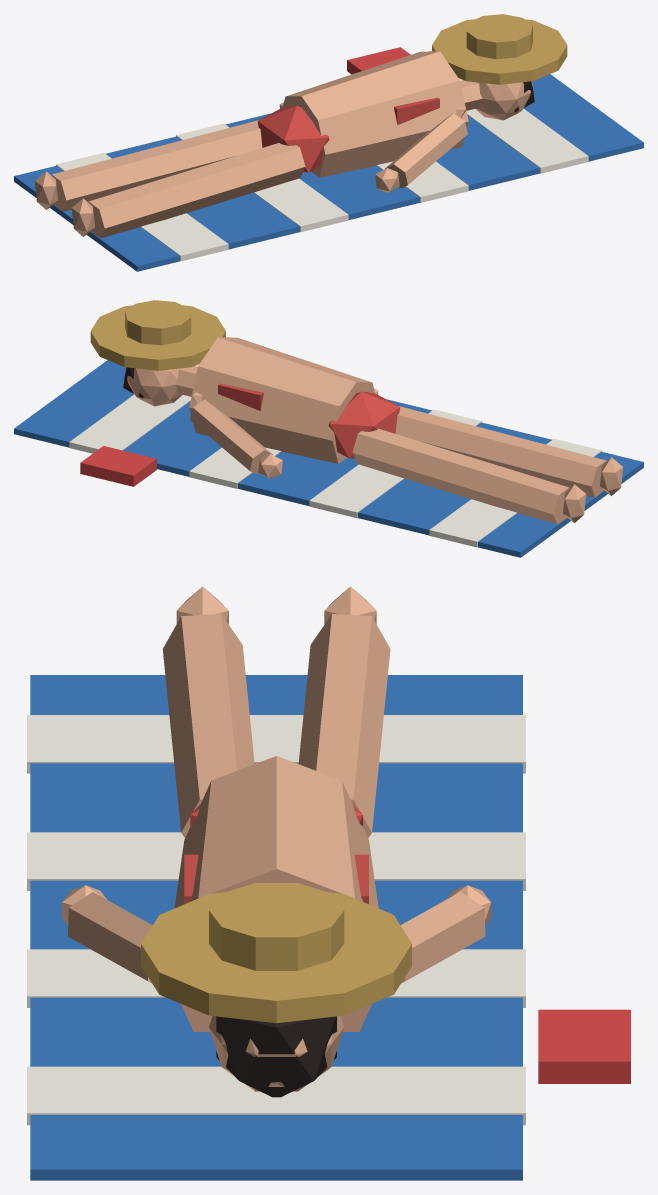
File: solbadare.glb
The picture shows the model from 3 angles, top to bottom: view 1: azimuth 30°, elevation 25°; view 2: azimuth 150°, elevation 25°; view 3: azimuth 270°, elevation 25°; orthographic projection. The views are drawn at different scales.
Visible parts, largest first — view 1: solbadare; view 2: solbadare; view 3: solbadare.
Part boxes in pixels (bbox=[...]): solbadare: bbox=[14, 14, 643, 271]; solbadare: bbox=[14, 300, 643, 557]; solbadare: bbox=[27, 586, 630, 1180].
Bounding box in the file's own units: 1.98 × 0.39 × 0.98.
